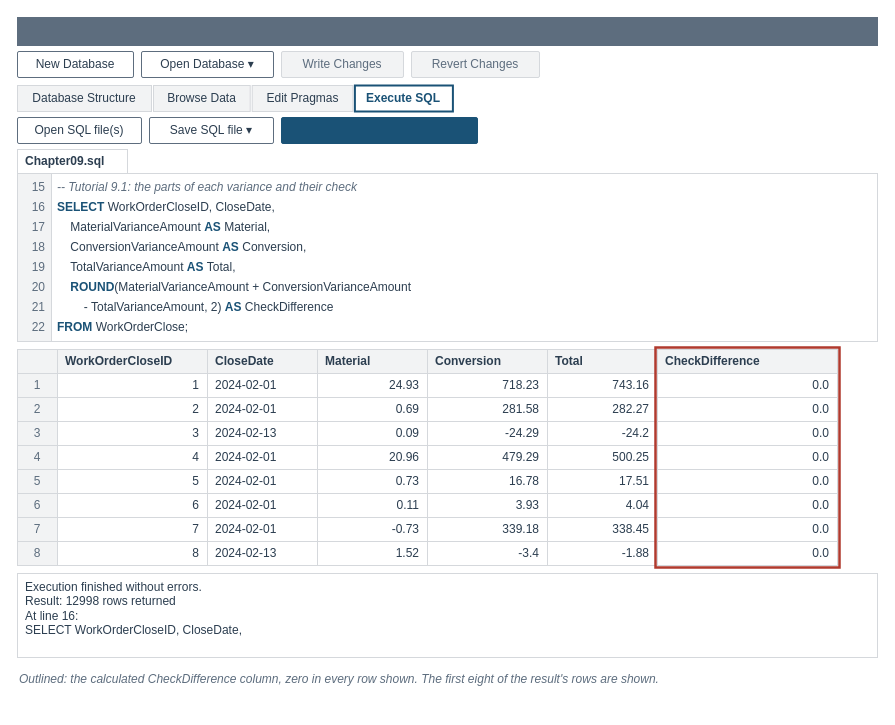
The diagram is 895 pixels wide and 725 high, and some of its shapes have lost their labels. The shapes that lost their labels are listed below. From the top down, each one's centre as x and y in pixels, then its label:
pixel 447 31: DB Browser for SQLite - C:\Users\you\Documents\CharlesRiver_Work.sqlite
pixel 379 130: ▶ Execute all/selected SQL
